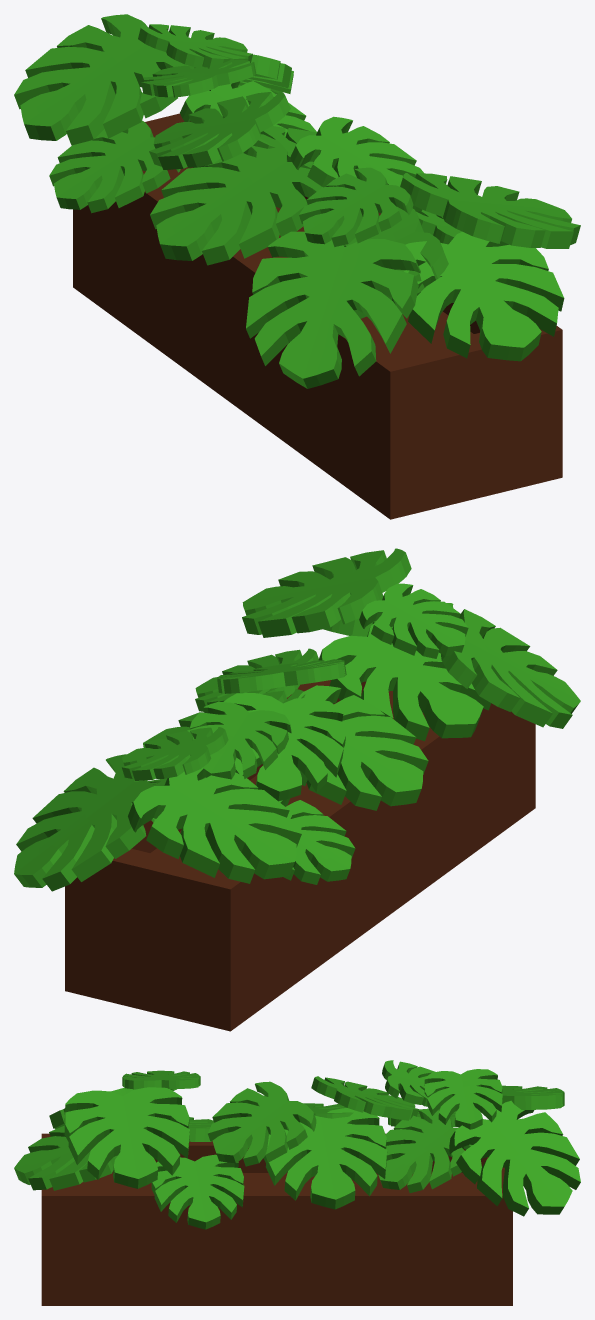
File: plantbox.fbx
The picture shows the model from 3 angles, top to bottom: view 1: azimuth 30°, elevation 25°; view 2: azimuth 150°, elevation 25°; view 3: azimuth 270°, elevation 25°; orthographic projection. The views are drawn at different scales.
Parts seen in each view (by area): view 1: Cube.003; view 2: Cube.003; view 3: Cube.003.
Part boxes in pixels (box(x1,y1,x2,y2)): Cube.003: box(14, 14, 580, 519); Cube.003: box(14, 548, 580, 1031); Cube.003: box(14, 1060, 580, 1305).
Size of the model in its own units: 629 by 478 by 1273.
